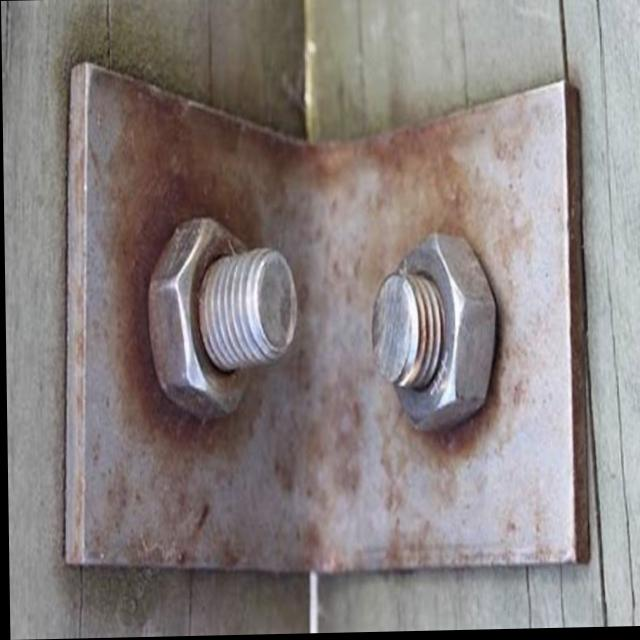Regular bolt: (370, 237, 496, 435), (147, 215, 255, 423)
